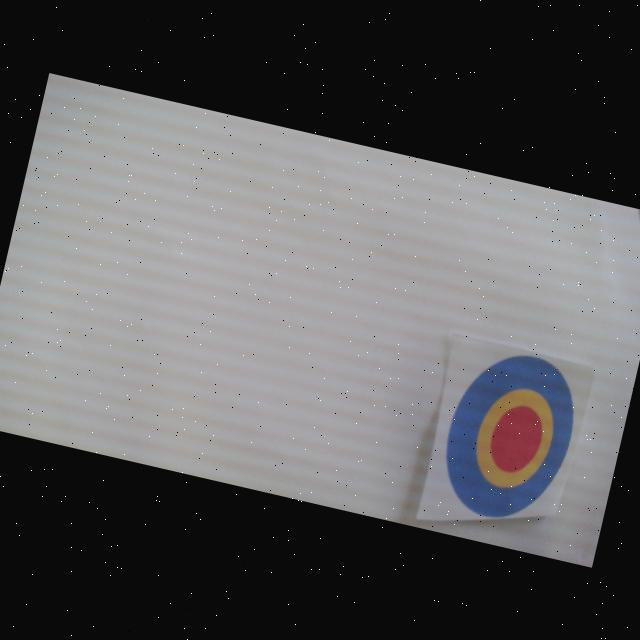COGNITIVE: (432, 342, 588, 532)
